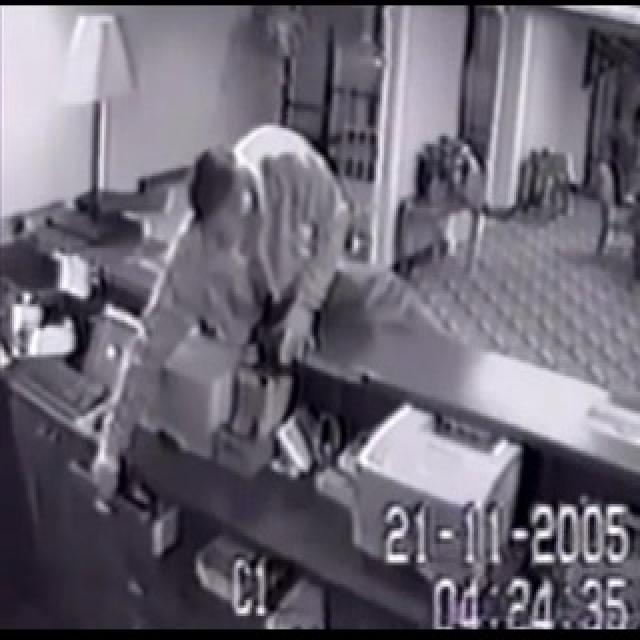thief: (102, 108, 436, 528)
